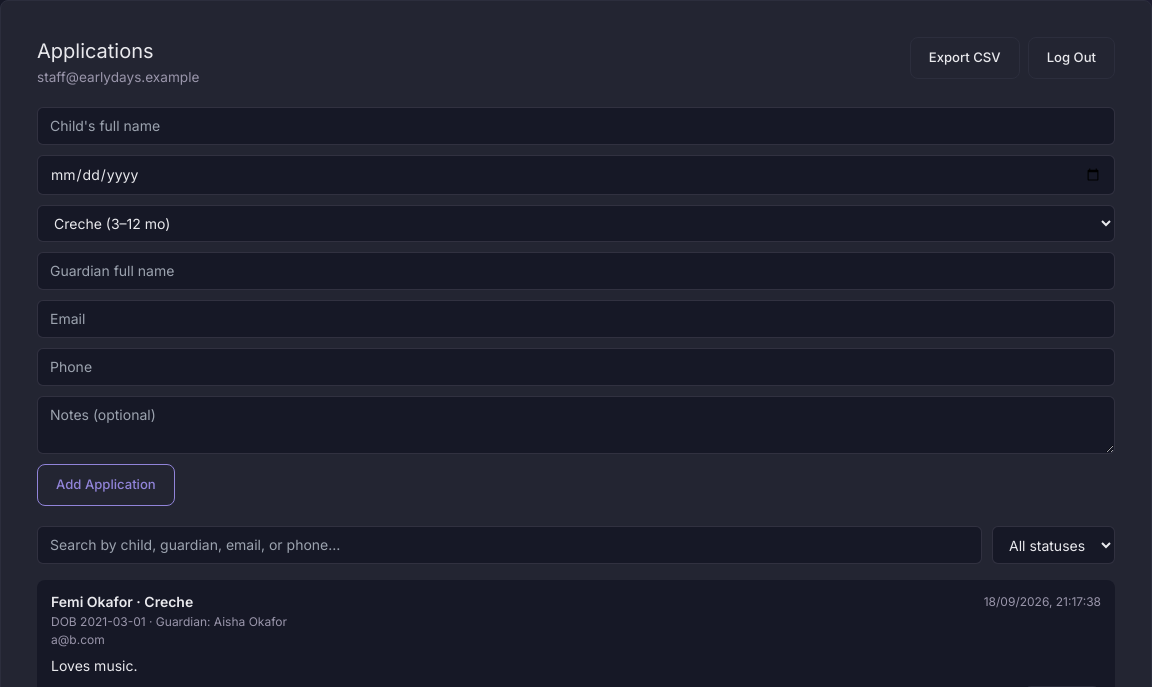
AdminApplicationsPanel › narrows the list by search text
Expected: the text "Femi Okafor · Creche" is shown, [51, 592, 193, 612]
Step 1. Type "Bola" into the field named "Search applications" → [510, 545], box [37, 526, 982, 564]
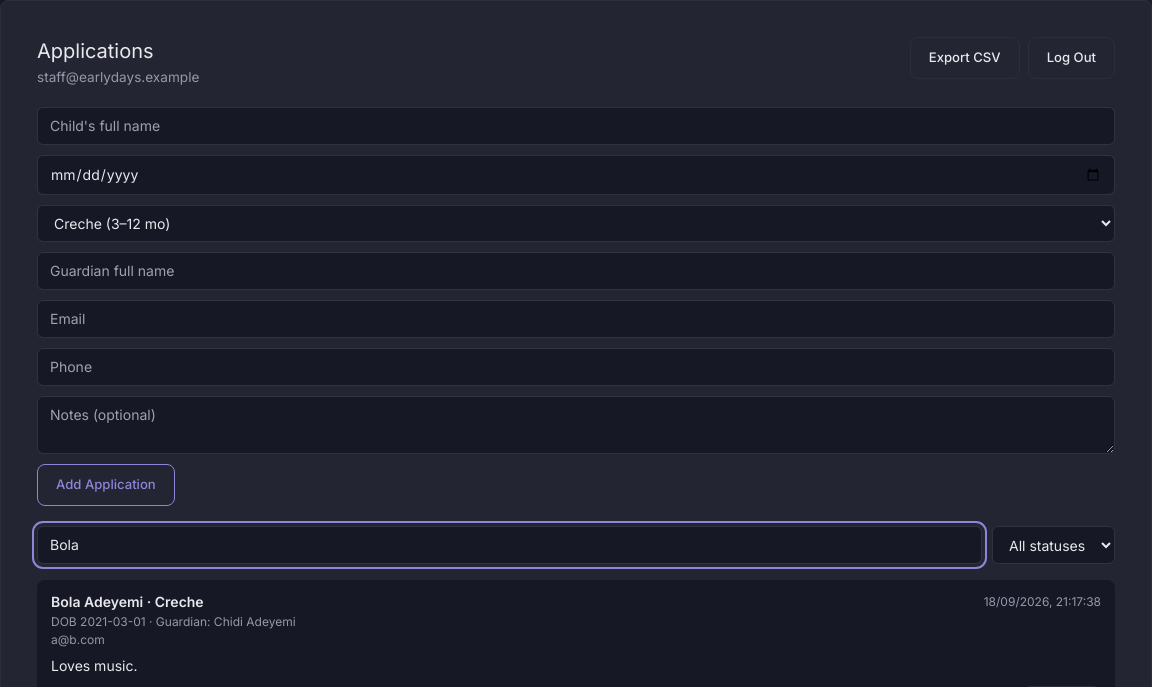
Expected: the text "Bola Adeyemi · Creche" is shown, [51, 592, 204, 612]
Expected: the text "Femi Okafor" is gone
